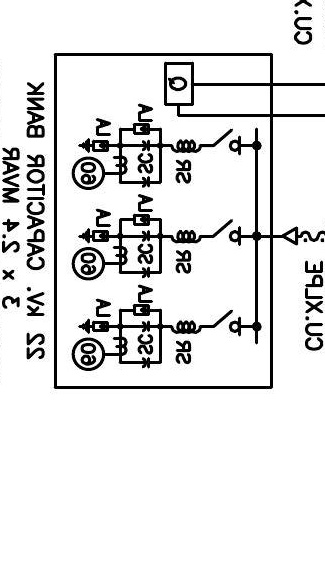22_cap_bank: (53, 52, 274, 390)
Q: (163, 61, 194, 107)
terminator_single: (281, 225, 299, 246)
